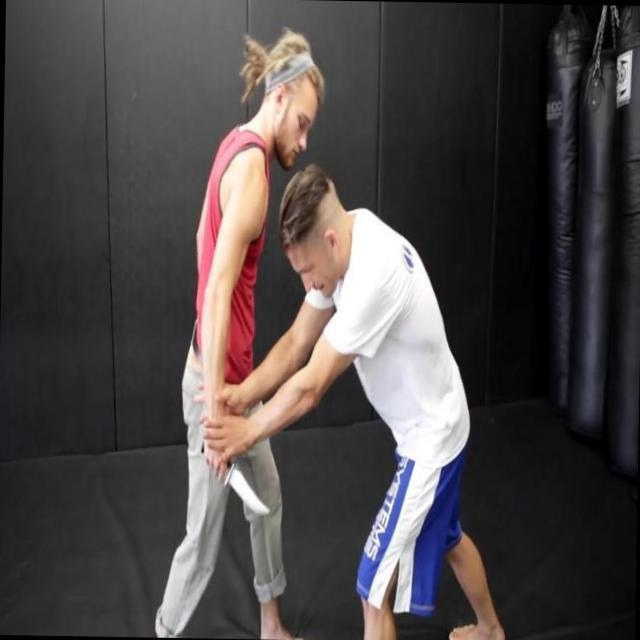Knife: (196, 437, 274, 522)
